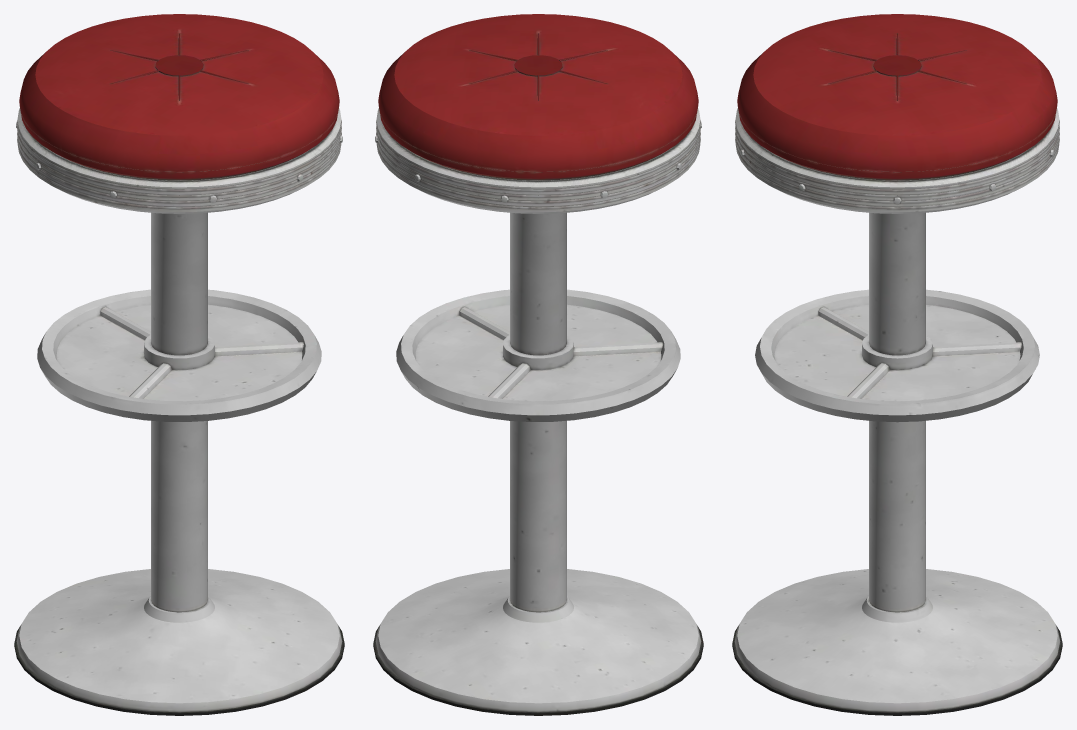
The model's file is banqueta_giratoria.glb.
3 views of the same model, side by side, from view 1: azimuth 30°, elevation 25°; view 2: azimuth 150°, elevation 25°; view 3: azimuth 270°, elevation 25° (orthographic).
Visible parts, largest first — view 1: banqueta; view 2: banqueta; view 3: banqueta.
Part boxes in pixels (x1,y1,x2,y2): banqueta: [14, 14, 344, 715]; banqueta: [373, 14, 703, 715]; banqueta: [732, 14, 1062, 715].
Bounding box in the file's own units: 0.408 × 0.7918 × 0.408.
1 material, 1 textured.
